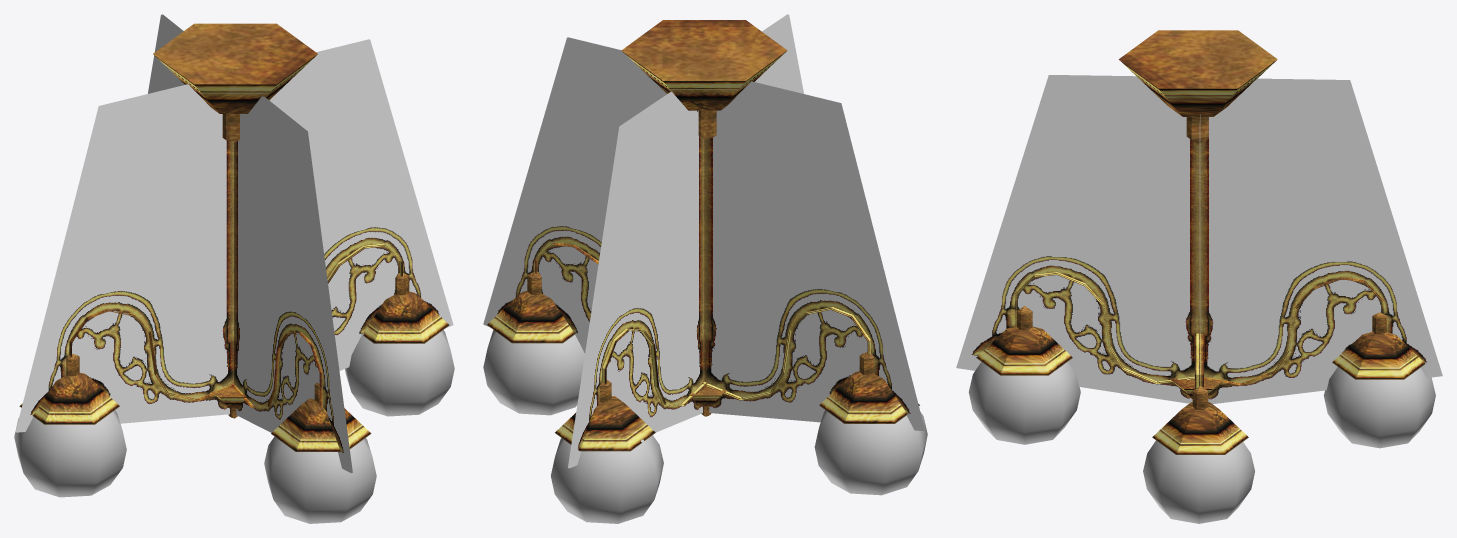
The model's file is GaslampServants4way.fbx.
3 renders of one model, left to right at view 1: azimuth 30°, elevation 25°; view 2: azimuth 150°, elevation 25°; view 3: azimuth 270°, elevation 25°, orthographic. The views are drawn at different scales.
Visible parts, largest first — view 1: Gaslight_Servant4way_LOD0; view 2: Gaslight_Servant4way_LOD0; view 3: Gaslight_Servant4way_LOD0.
Boxes of the visible parts, x1,y1,x2,y2 form: Gaslight_Servant4way_LOD0: (14, 14, 454, 523); Gaslight_Servant4way_LOD0: (483, 14, 927, 523); Gaslight_Servant4way_LOD0: (956, 30, 1442, 523).
Size of what is drawn, in the model's own units: 257 by 216 by 257.
